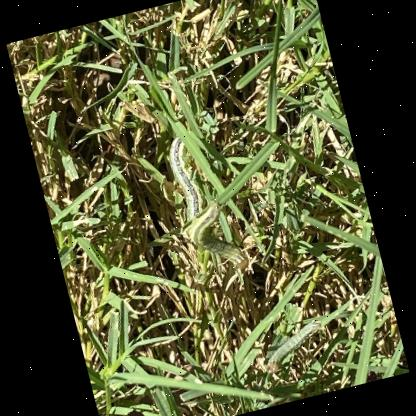Fall Armyworm Larvae: (180, 193, 254, 283), (257, 314, 336, 378), (161, 130, 213, 226)
